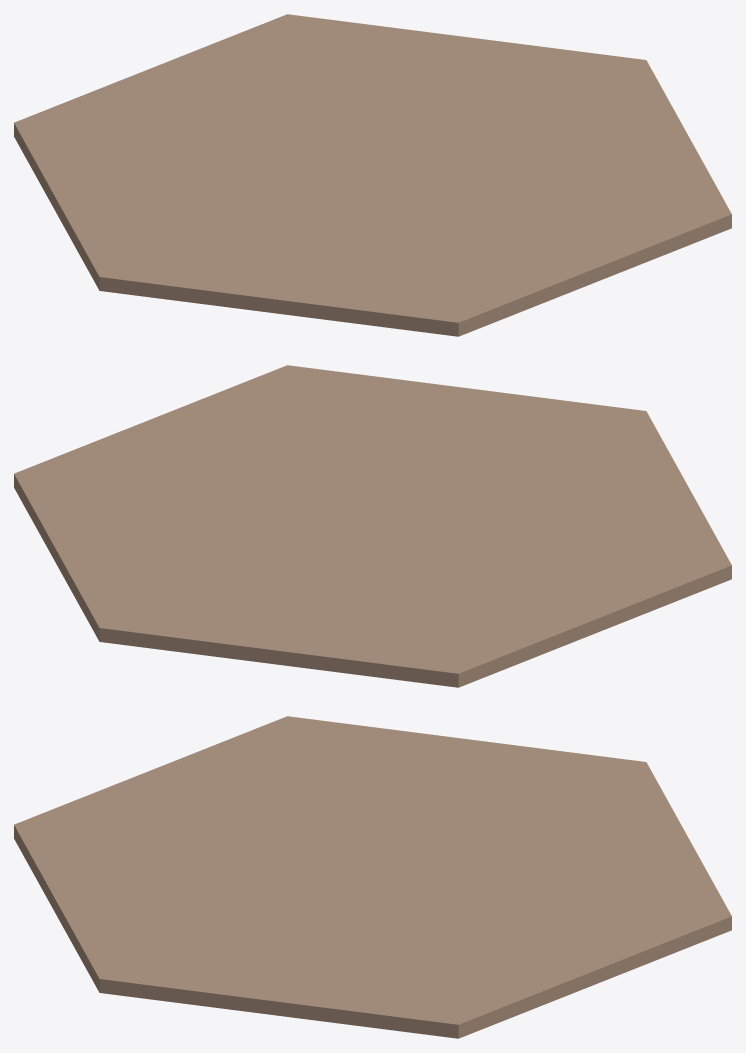
The model's file is Livingroom2_Napkin.fbx.
The picture shows the model from 3 angles, top to bottom: view 1: azimuth 30°, elevation 25°; view 2: azimuth 150°, elevation 25°; view 3: azimuth 270°, elevation 25°; orthographic projection.
Parts seen in each view (by area): view 1: Livingroom2_Napkin; view 2: Livingroom2_Napkin; view 3: Livingroom2_Napkin.
Part boxes in pixels (left/top/right/bottom): Livingroom2_Napkin: left=14, top=14, right=731, bottom=336; Livingroom2_Napkin: left=14, top=365, right=731, bottom=687; Livingroom2_Napkin: left=14, top=716, right=731, bottom=1038.
Size of the model in its own units: 17.64 by 0.3721 by 17.35.
